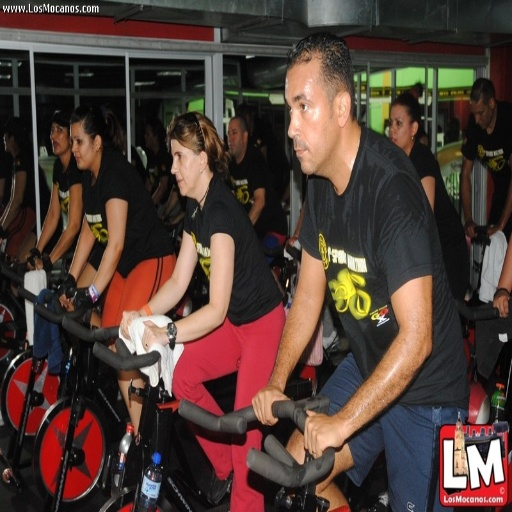hand: (304, 407, 353, 471), (249, 384, 289, 428), (139, 318, 167, 355), (117, 308, 142, 341), (67, 288, 90, 312), (492, 291, 511, 320), (57, 279, 73, 309), (24, 253, 37, 272), (35, 256, 48, 271), (286, 236, 298, 248)
